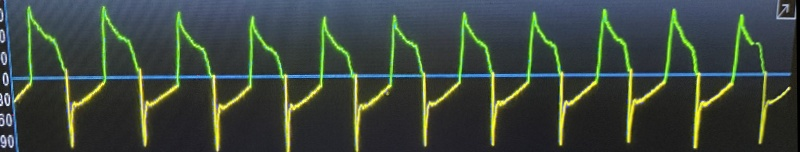peepi: (5, 3, 776, 152)
